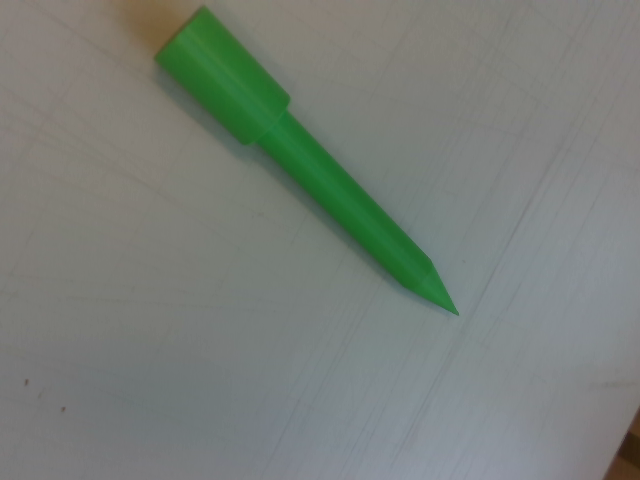Probe: (150, 1, 468, 320)
